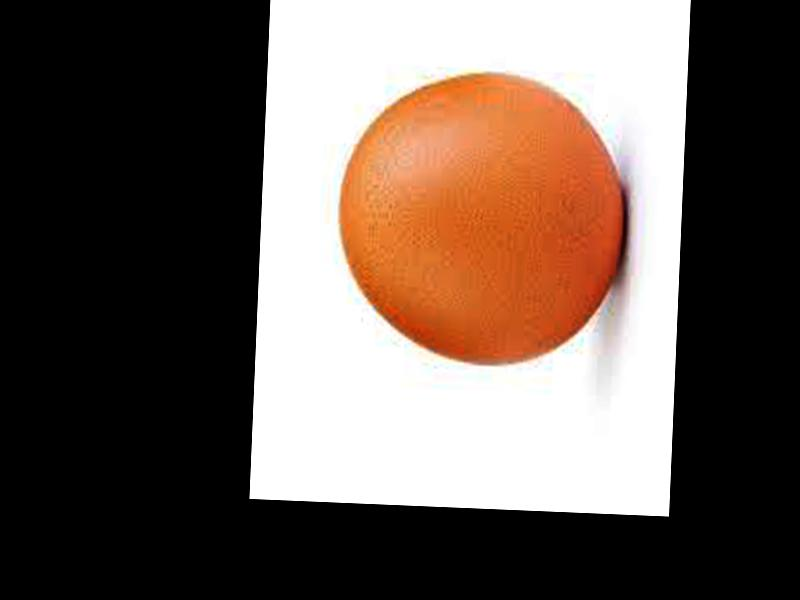Eggs: (337, 68, 628, 368)
